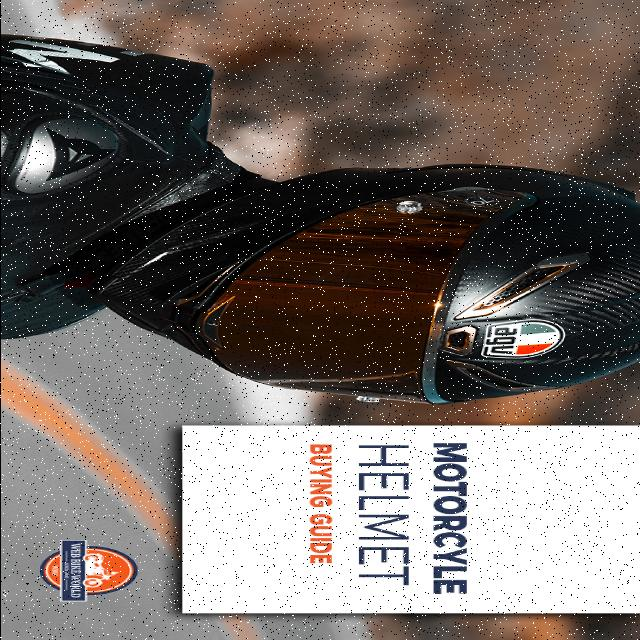Helmet: (85, 165, 635, 410)
